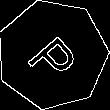P_NE: (21, 24, 84, 85)
